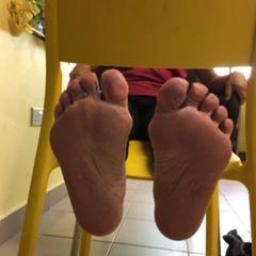Plantar View -Both Feet-: (34, 48, 243, 252)
